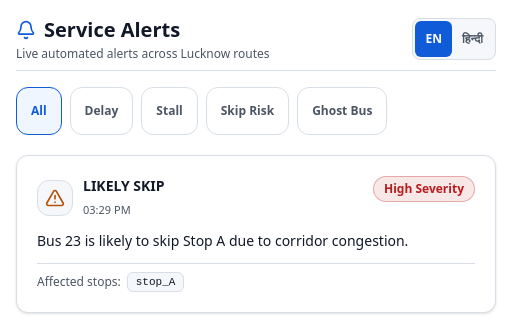
Test: M3 UI Components (M3-28 to M3-33) › AlertsPage renders alerts and toggles language between EN and HI (M3-28)
Check: the text "Bus 23 is likely to skip Stop A due to corridor congestion." is shown, box [37,231,408,250]
Check: the text "High Severity" is shown, box [384,181,464,197]
Toggle language to Hindi
Click the button "हिन्दी" at (472, 39), box [452,21,493,57]
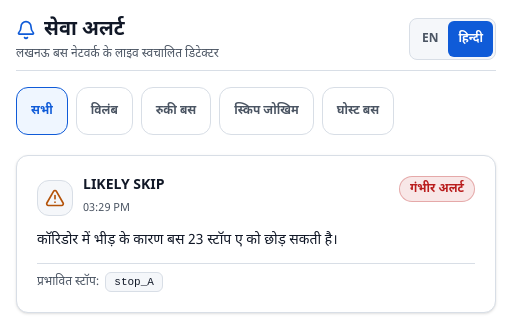
Check: the text "कॉरिडोर में भीड़ के कारण बस 23 स्टॉप ए को छोड़ सकती है।" is shown, box [37,231,338,250]
